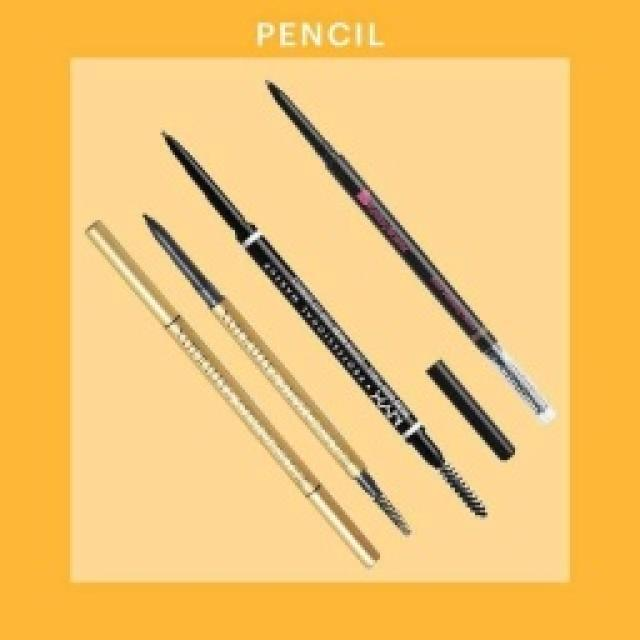pencil: (75, 60, 565, 578)
